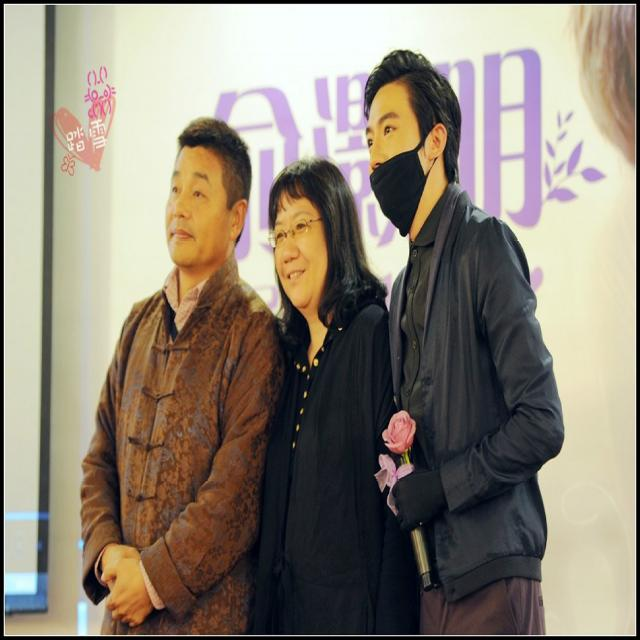mask: (366, 83, 433, 221)
nomask: (162, 148, 222, 261), (274, 190, 326, 308)
